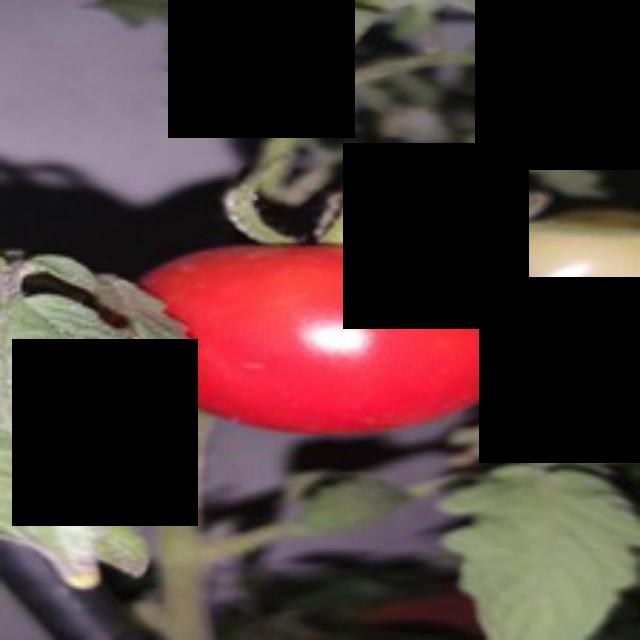tomato: (135, 242, 548, 445)
